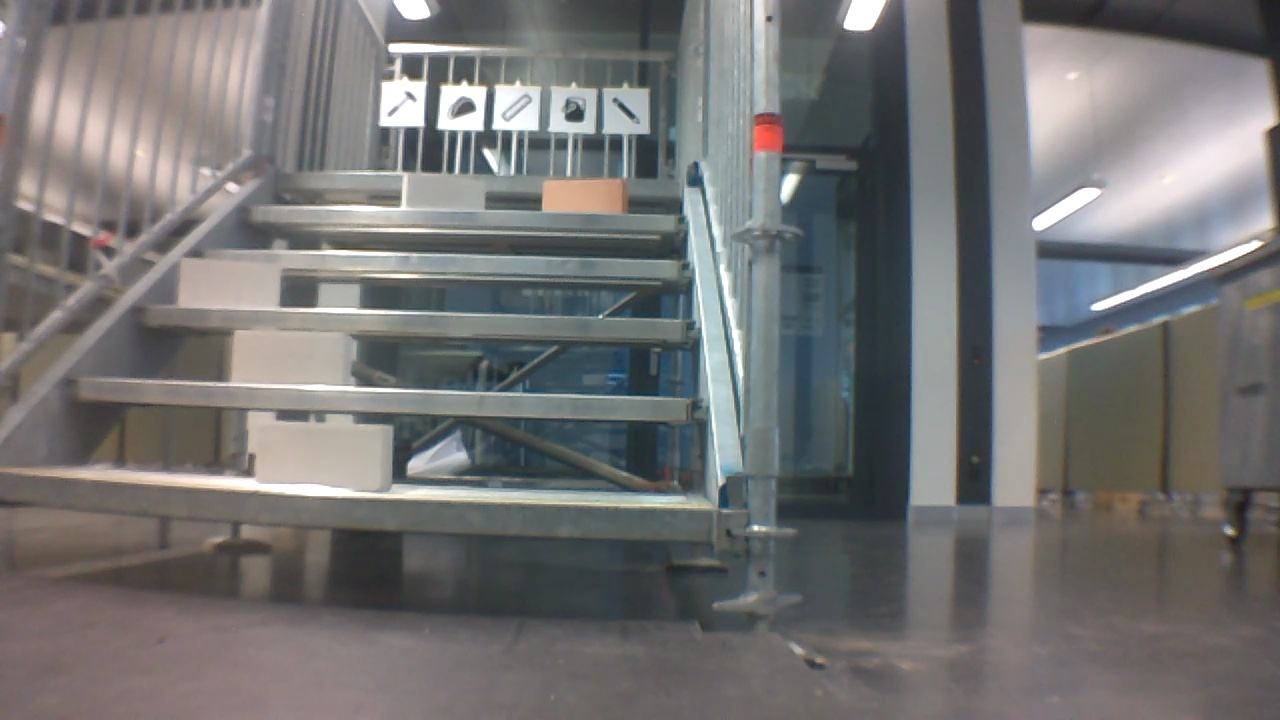brick: (256, 420, 393, 490), (234, 330, 349, 386), (180, 259, 278, 304), (402, 172, 482, 208), (542, 180, 624, 212)
bucket: (556, 90, 588, 126)
edge: (2, 470, 713, 544), (65, 375, 709, 422), (138, 302, 701, 340), (203, 249, 696, 283), (245, 206, 687, 233), (278, 171, 683, 197)
hammer: (383, 90, 419, 123)
pencil: (609, 95, 645, 125)
ruler: (500, 91, 533, 124)
stairs: (2, 3, 794, 632)
steps: (3, 162, 720, 551)
taco: (446, 91, 482, 125)
